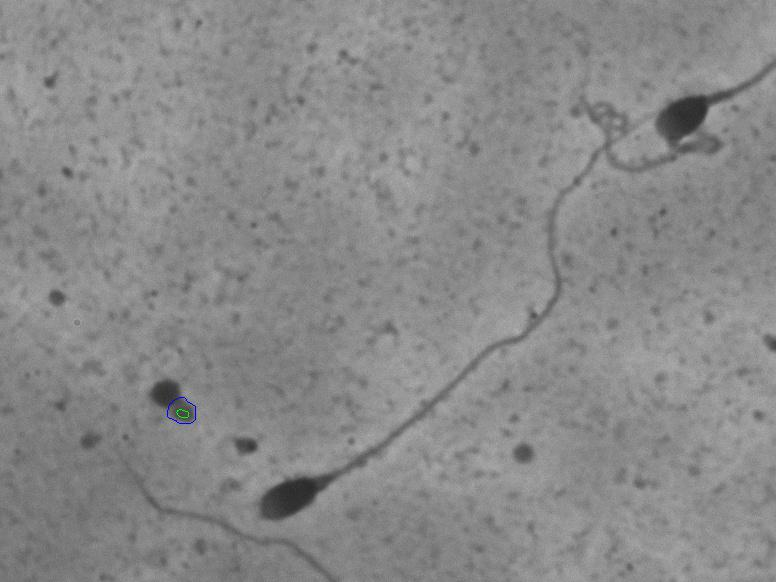Normal: (242, 109, 646, 532)
